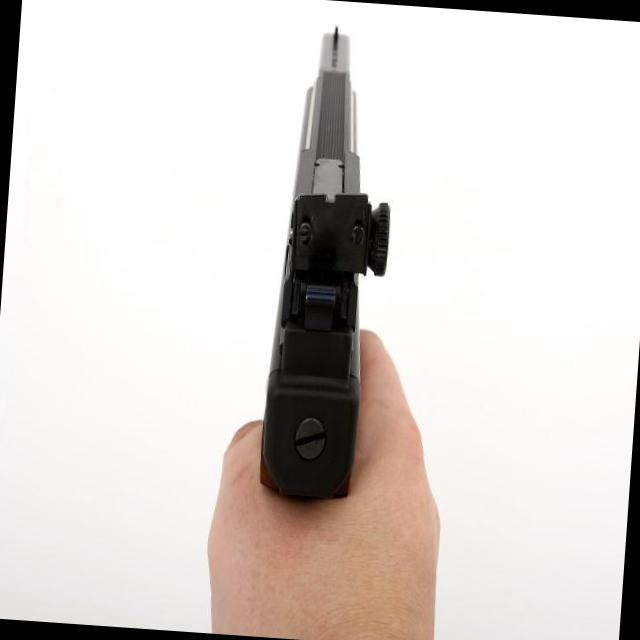Gun: (260, 30, 389, 497)
